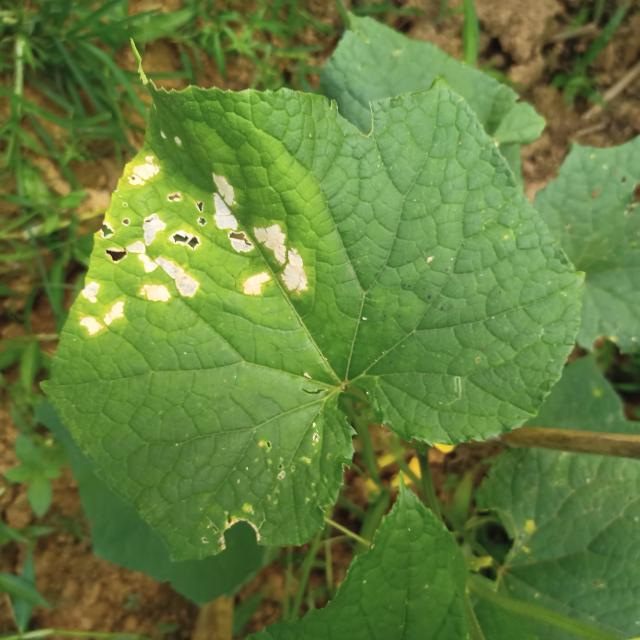disease_cucumber: (54, 115, 320, 336)
